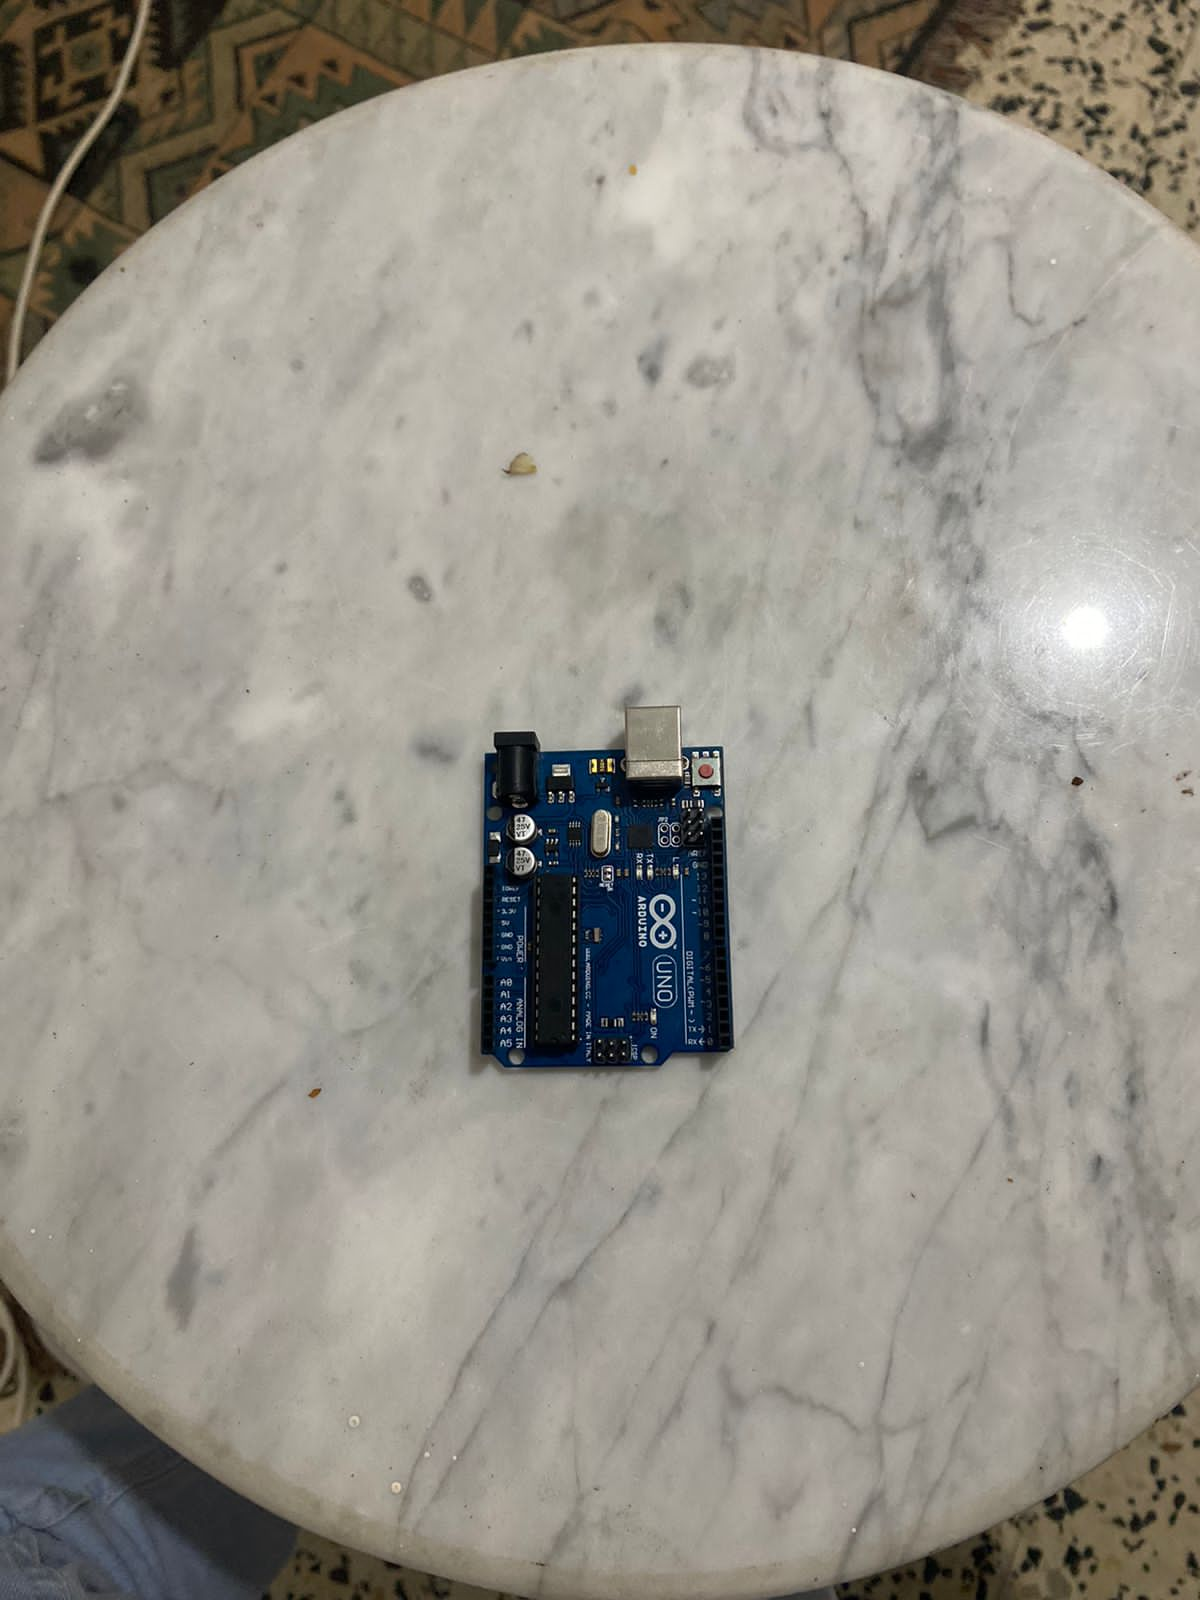arduino-uno: (476, 700, 736, 1077)
